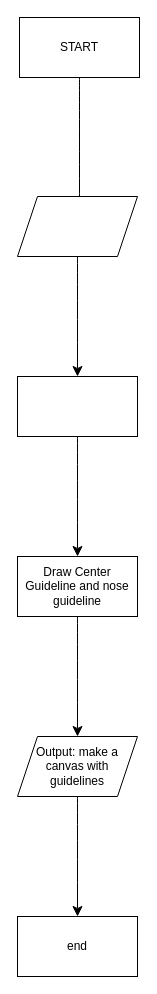
Some shapes in this 157 by 994 pixel diagram are drawn without their labels. The centre of each missing label's shape, as x and y in pixels:
"Draw the face Oval Border" goes at point 77,406.
"Input: Blank Canvas" goes at point 77,226.
